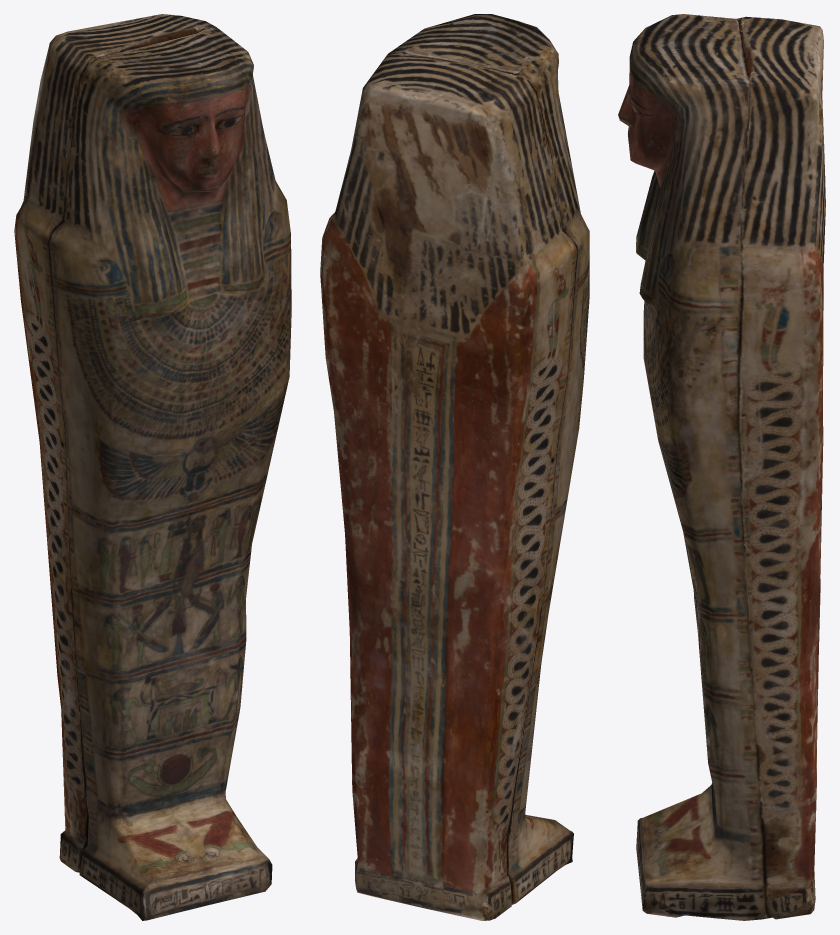
Rendered from Coffin_From_El_Hiba.fbx.
3 views of the same model, side by side, from view 1: azimuth 30°, elevation 25°; view 2: azimuth 150°, elevation 25°; view 3: azimuth 270°, elevation 25° (orthographic).
Visible parts, largest first — view 1: Coffin_From_El_Hiba_LOD0; view 2: Coffin_From_El_Hiba_LOD0; view 3: Coffin_From_El_Hiba_LOD0.
Part boxes in pixels (left/top/right/bottom): Coffin_From_El_Hiba_LOD0: left=14, top=14, right=291, bottom=920; Coffin_From_El_Hiba_LOD0: left=320, top=14, right=589, bottom=920; Coffin_From_El_Hiba_LOD0: left=618, top=14, right=825, bottom=920.
Size of what is drawn, in the model's own units: 75.38 by 270 by 60.13.
